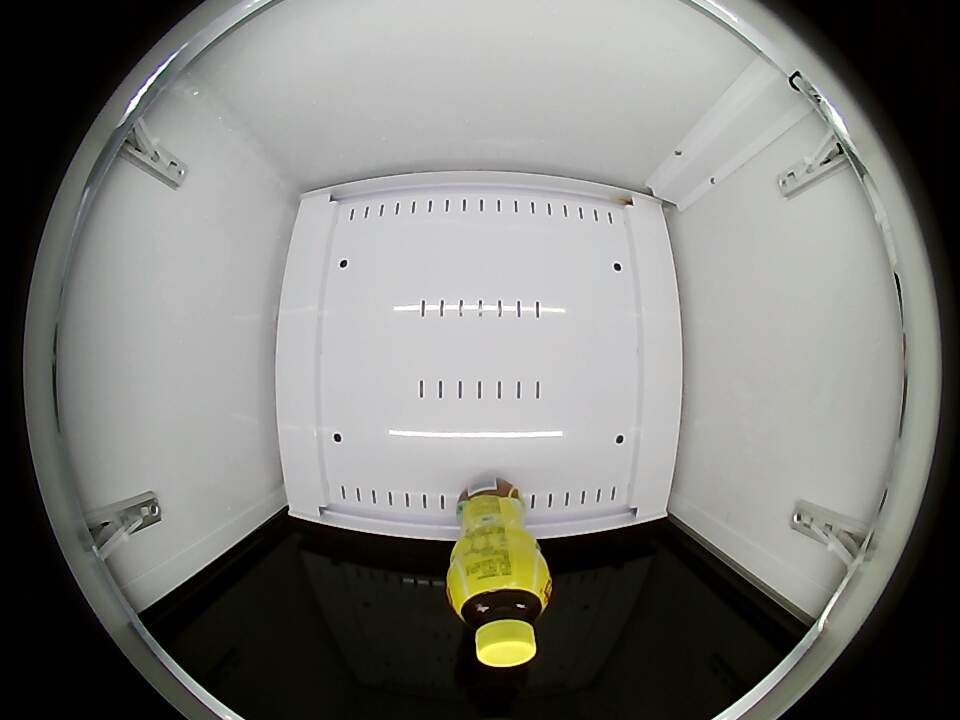weitaningmeng-bottle: (449, 558, 551, 668)
